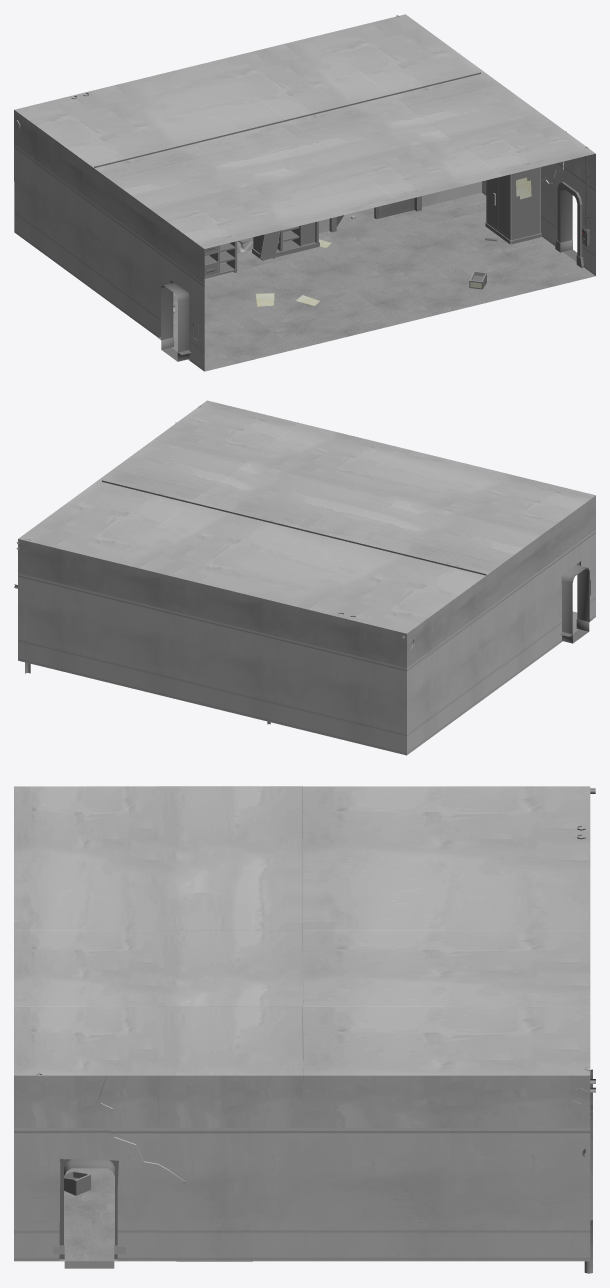
The model's file is MSH_QuestStandard_L2_R2_optimized.fbx.
The picture shows the model from 3 angles, top to bottom: view 1: azimuth 30°, elevation 25°; view 2: azimuth 150°, elevation 25°; view 3: azimuth 270°, elevation 25°; orthographic projection. The views are drawn at different scales.
Visible parts, largest first — view 1: lightmap3, lightmap2, lightmap0; view 2: lightmap3, lightmap0; view 3: lightmap3, lightmap2, lightmap0.
Boxes of the visible parts, bbox=[...] form: lightmap3: bbox=[14, 14, 595, 371]; lightmap2: bbox=[171, 167, 595, 371]; lightmap0: bbox=[17, 15, 588, 361]; lightmap3: bbox=[18, 400, 595, 755]; lightmap0: bbox=[14, 406, 592, 724]; lightmap3: bbox=[14, 786, 590, 1261]; lightmap2: bbox=[31, 1168, 252, 1261]; lightmap0: bbox=[37, 788, 595, 1273].
Bounding box in the file's own units: 20.61 × 6.5 × 16.67.
4 materials, 3 textured.
